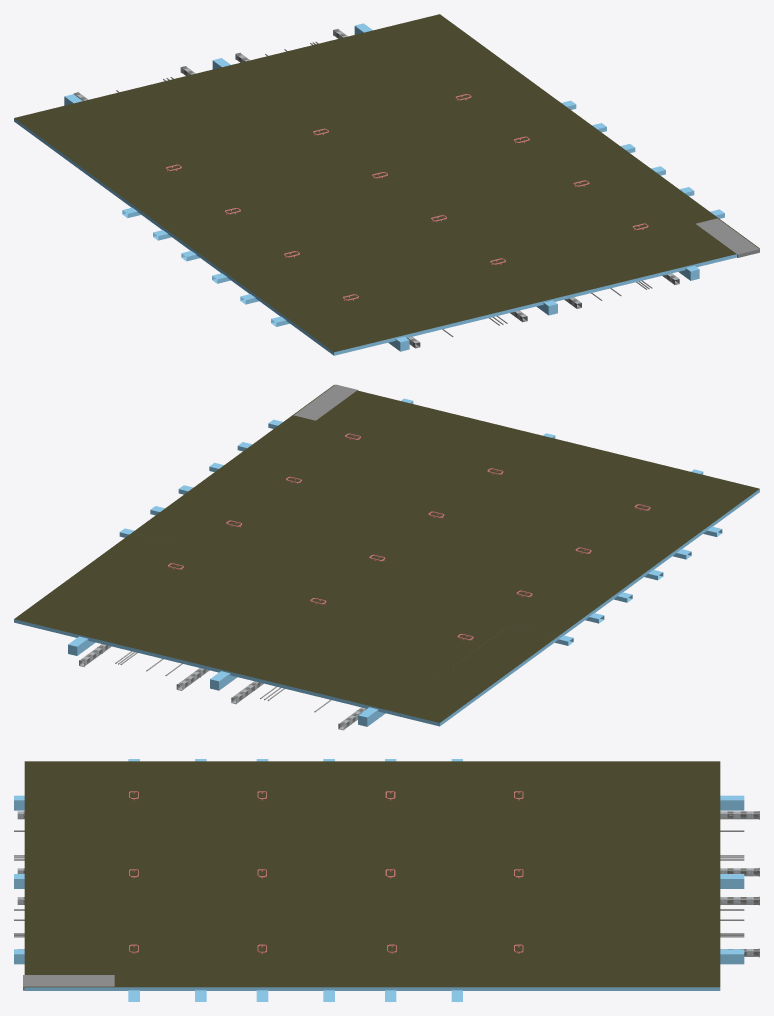
File: roof.FBX
3 renders of one model, top to bottom at view 1: azimuth 30°, elevation 25°; view 2: azimuth 150°, elevation 25°; view 3: azimuth 270°, elevation 25°, orthographic. The views are drawn at different scales.
Visible parts, largest first — view 1: Box009; view 2: Box009; view 3: Box009.
Boxes of the visible parts, x1,y1,x2,y2 form: Box009: (14, 14, 759, 355); Box009: (14, 384, 759, 730); Box009: (14, 759, 759, 1001).
Bounding box in the file's own units: 0.6142 × 0.8137 × 0.0199.
